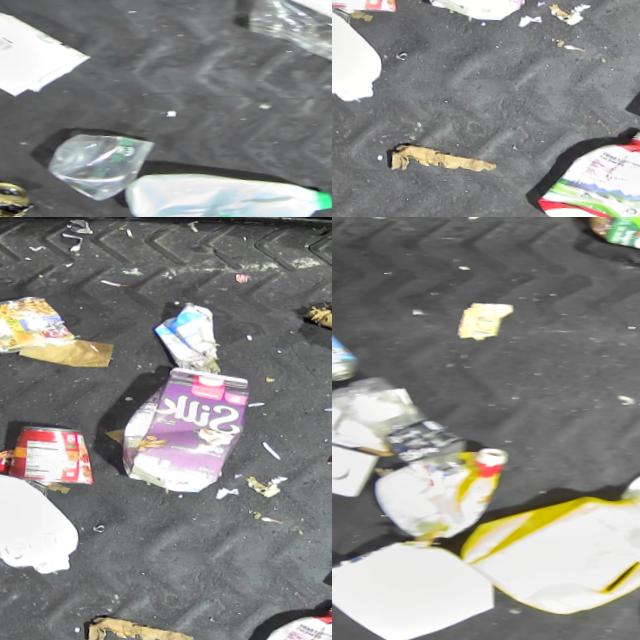can: (2, 416, 95, 486), (0, 286, 76, 357), (332, 292, 360, 383), (0, 166, 32, 217)
milk_jug: (104, 141, 332, 217), (0, 455, 81, 580), (332, 0, 393, 107)
non_white_jug: (451, 475, 640, 623), (110, 352, 257, 493), (226, 584, 332, 640)
plastic_bottle: (332, 365, 469, 478)
